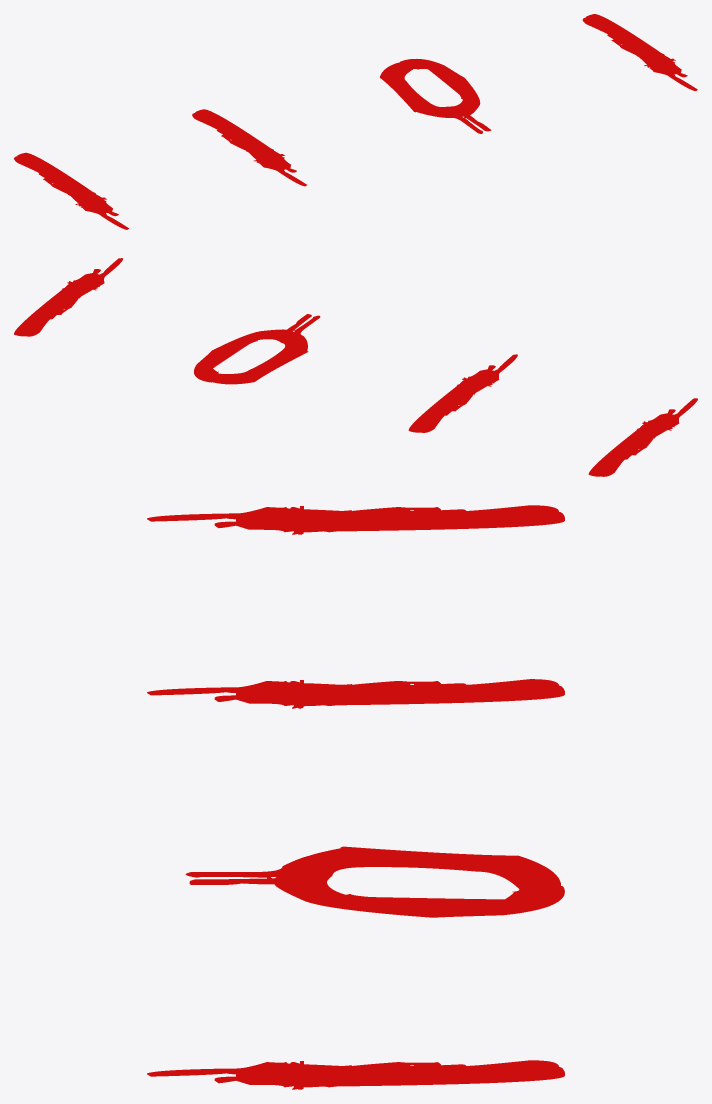
Rendered from wall_text.fbx.
The picture shows the model from 3 angles, top to bottom: view 1: azimuth 30°, elevation 25°; view 2: azimuth 150°, elevation 25°; view 3: azimuth 270°, elevation 25°; orthographic projection. The views are drawn at different scales.
Parts seen in each view (by area): view 1: Text; view 2: Text; view 3: Text.
Part boxes in pixels (bbox=[...]): Text: bbox=[14, 14, 697, 229]; Text: bbox=[14, 258, 697, 476]; Text: bbox=[147, 505, 564, 1089].
Bounding box in the file's own units: 141 × 6.92e-06 × 42.46.
